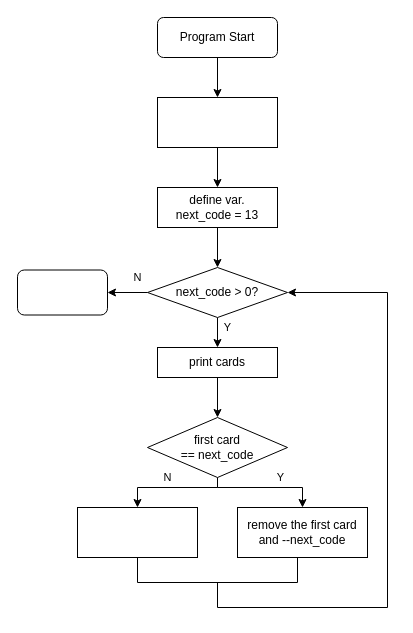
The diagram is 413 pixels wide and 633 high, and some of its shapes have lost their labels. The shapes that lost their labels are listed below. From the top down, each one's box as (x1, y1, x2, y2) in pixels, then its label:
(156, 96, 278, 148): Scan the cards and put it into a link list
(16, 269, 108, 315): Program Terminates
(76, 506, 198, 558): move the first card from head to tail
